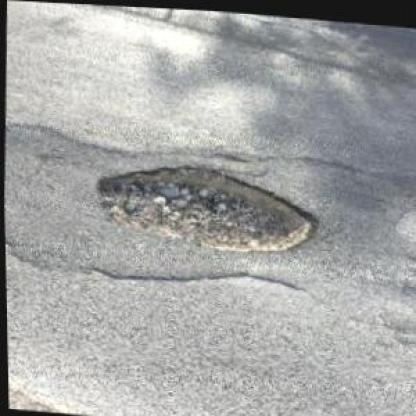pothole: (91, 153, 326, 255)
